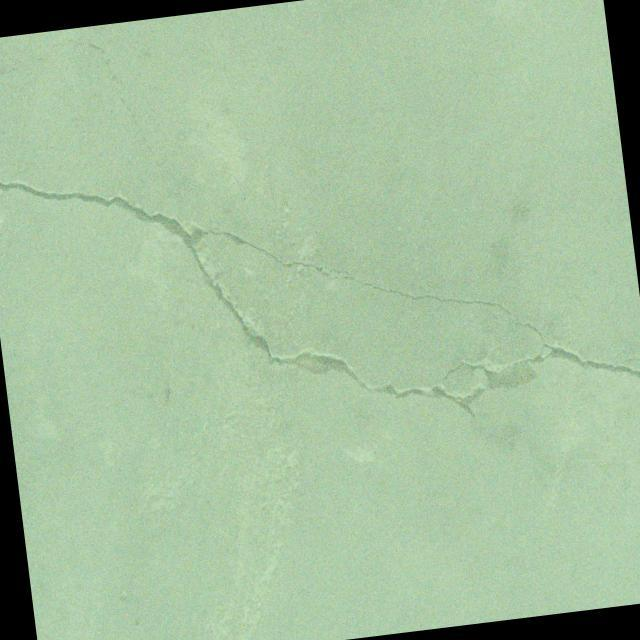crack: (0, 98, 640, 561), (109, 61, 184, 211), (2, 32, 110, 77), (0, 43, 20, 80), (627, 355, 640, 364)
